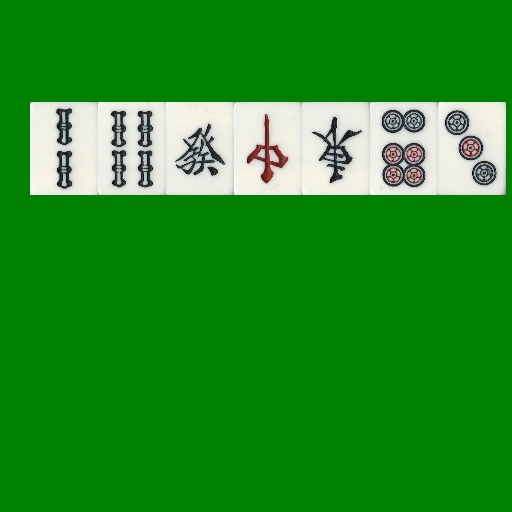2s: (30, 102, 98, 195)
3p: (438, 102, 506, 195)
4s: (98, 102, 166, 195)
6p: (370, 102, 438, 195)
east: (302, 102, 370, 195)
hatsu: (166, 102, 234, 195)
tyun: (234, 102, 302, 195)
